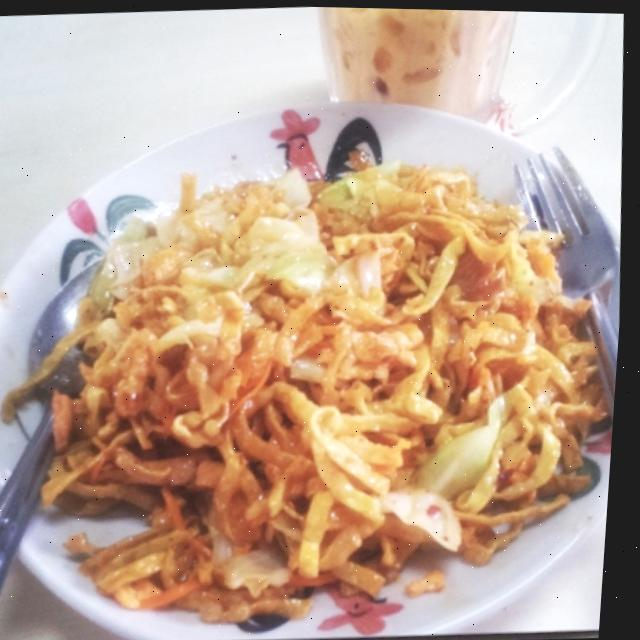面条主食: (0, 78, 636, 637)
